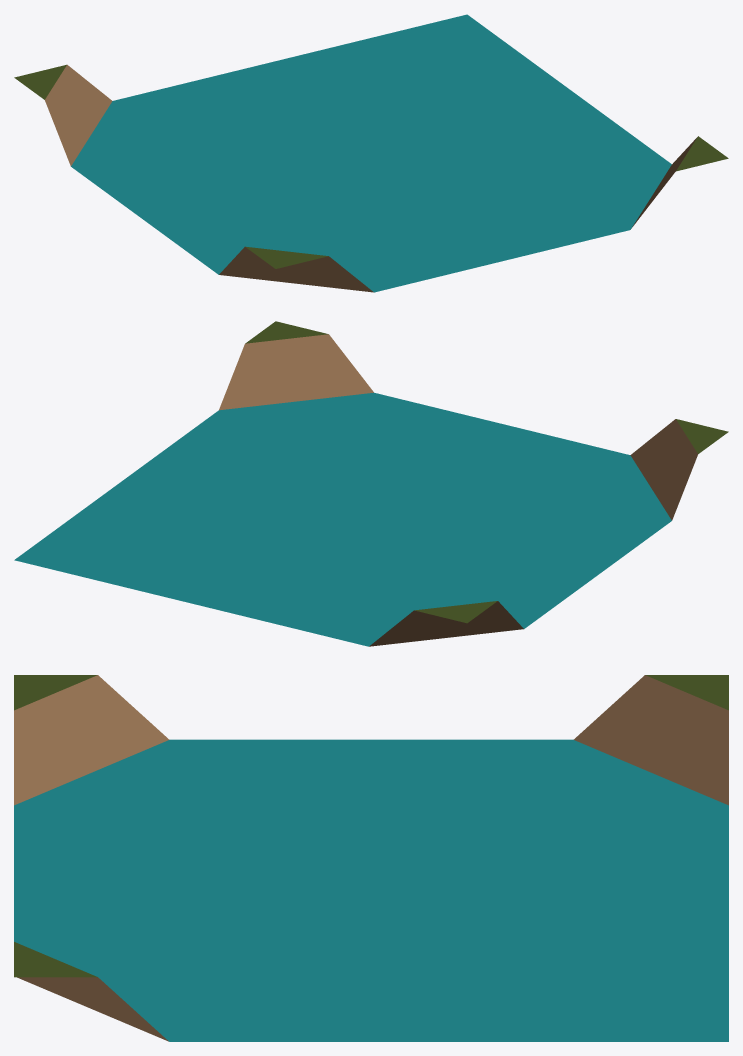
The model's file is TB_Env_River_M.FBX.
The picture shows the model from 3 angles, top to bottom: view 1: azimuth 30°, elevation 25°; view 2: azimuth 150°, elevation 25°; view 3: azimuth 270°, elevation 25°; orthographic projection. The views are drawn at different scales.
Parts seen in each view (by area): view 1: TB_Env_River_M; view 2: TB_Env_River_M; view 3: TB_Env_River_M.
Boxes of the visible parts, left/top/right/bottom form: TB_Env_River_M: left=14, top=14, right=728, bottom=292; TB_Env_River_M: left=14, top=321, right=728, bottom=646; TB_Env_River_M: left=14, top=675, right=728, bottom=1041.
Size of the model in its own units: 10 by 1 by 10.
1 material, 1 textured.
